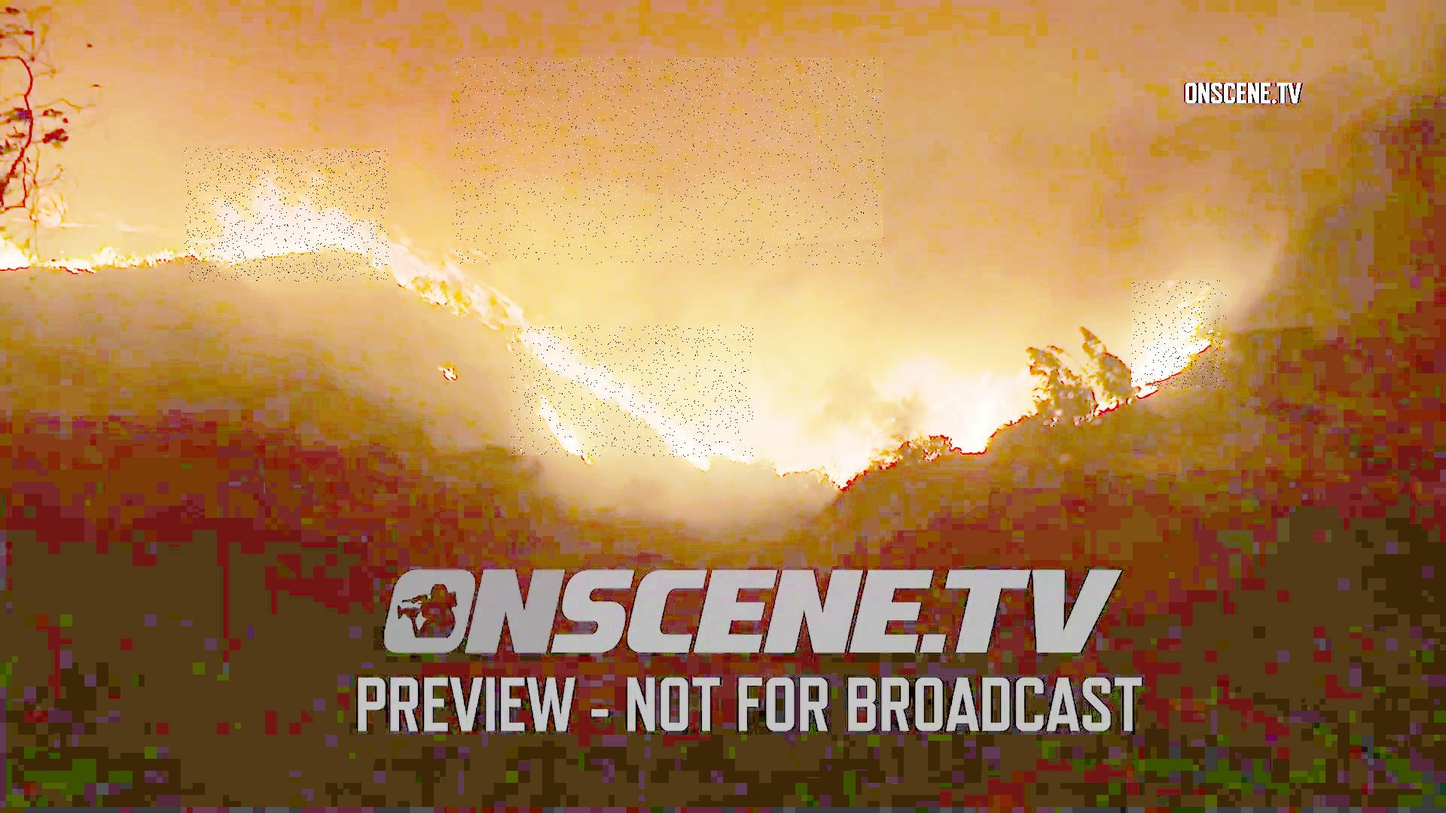fire: (512, 326, 753, 458), (185, 149, 389, 282), (1132, 281, 1227, 389), (931, 356, 1023, 447)
smoke: (453, 58, 886, 266)
